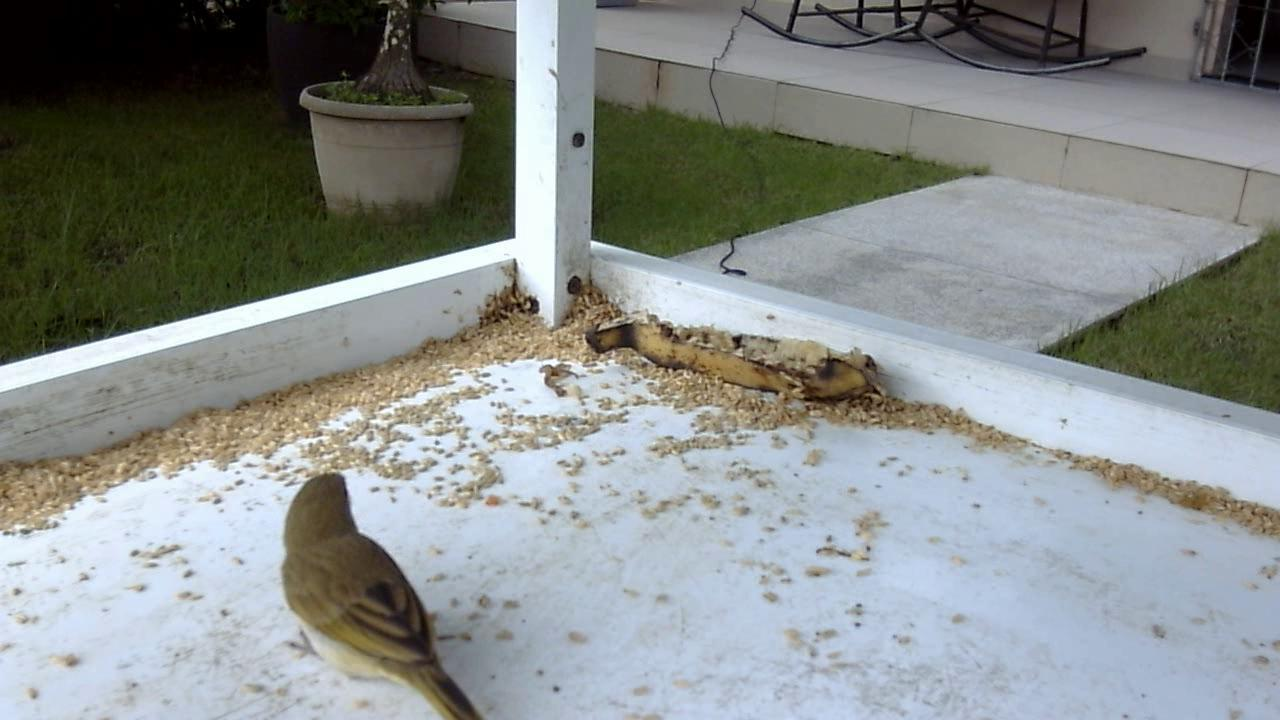canario_do_amazonas: (272, 466, 491, 716)
